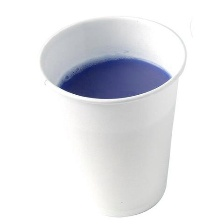paper_cup: (33, 10, 190, 220)
